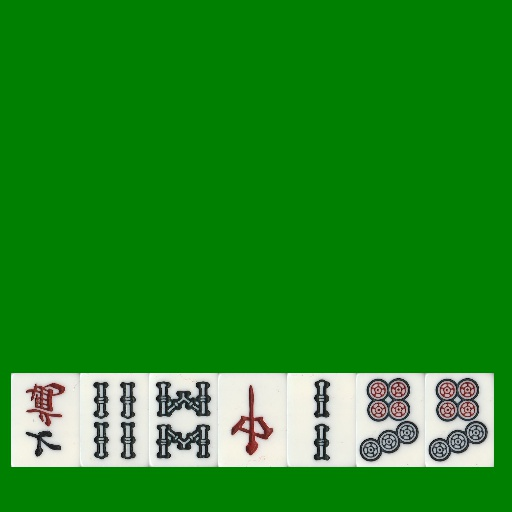2s: (287, 373, 356, 467)
4s: (80, 373, 149, 467)
7m: (11, 373, 80, 467)
7p: (356, 373, 425, 467), (425, 373, 494, 467)
8s: (149, 373, 218, 467)
tyun: (218, 373, 287, 467)
